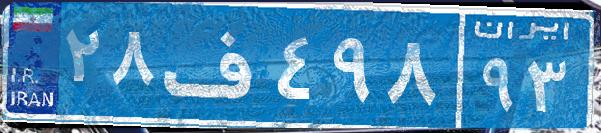2: (57, 26, 110, 107)
3: (525, 38, 570, 115)
4: (273, 28, 330, 110)
8: (385, 28, 445, 110), (110, 28, 158, 105)
9: (330, 28, 385, 110), (475, 38, 525, 113)
ف: (158, 15, 273, 115)
